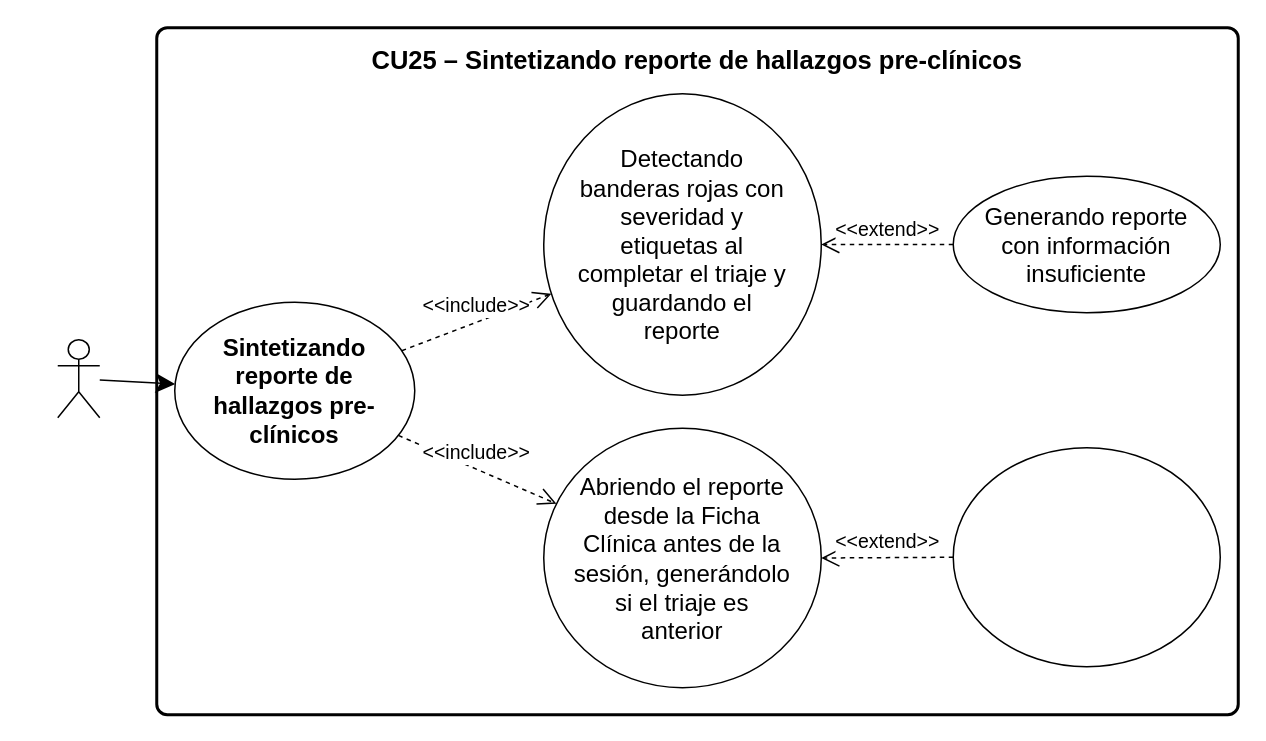
Image size: 1266x741. Some labels were removed from this diagram. Each missing label, with the box of its shape:
Profesional: (56, 338, 100, 418)
Registrando latencia o fallo en bitácora y ofreciendo reintentar: (952, 446, 1220, 667)
